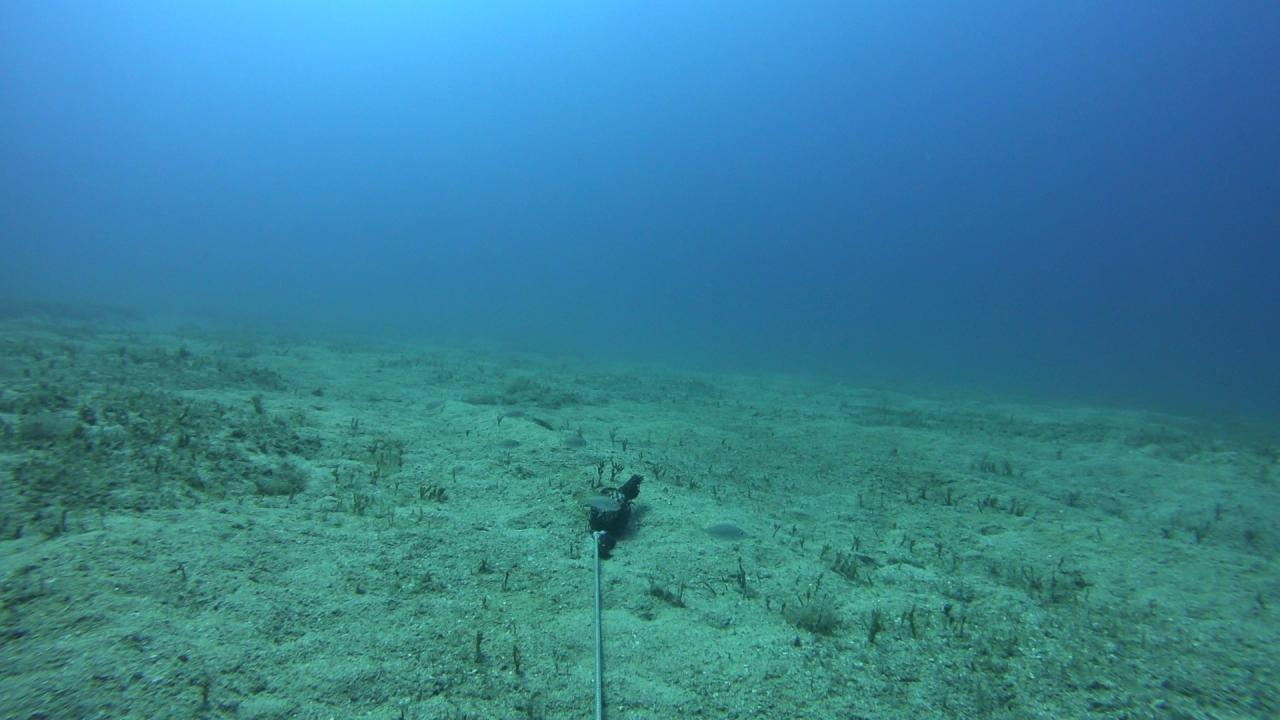pagellus: (690, 520, 750, 543), (574, 493, 624, 511), (554, 434, 592, 449), (487, 438, 518, 450)
